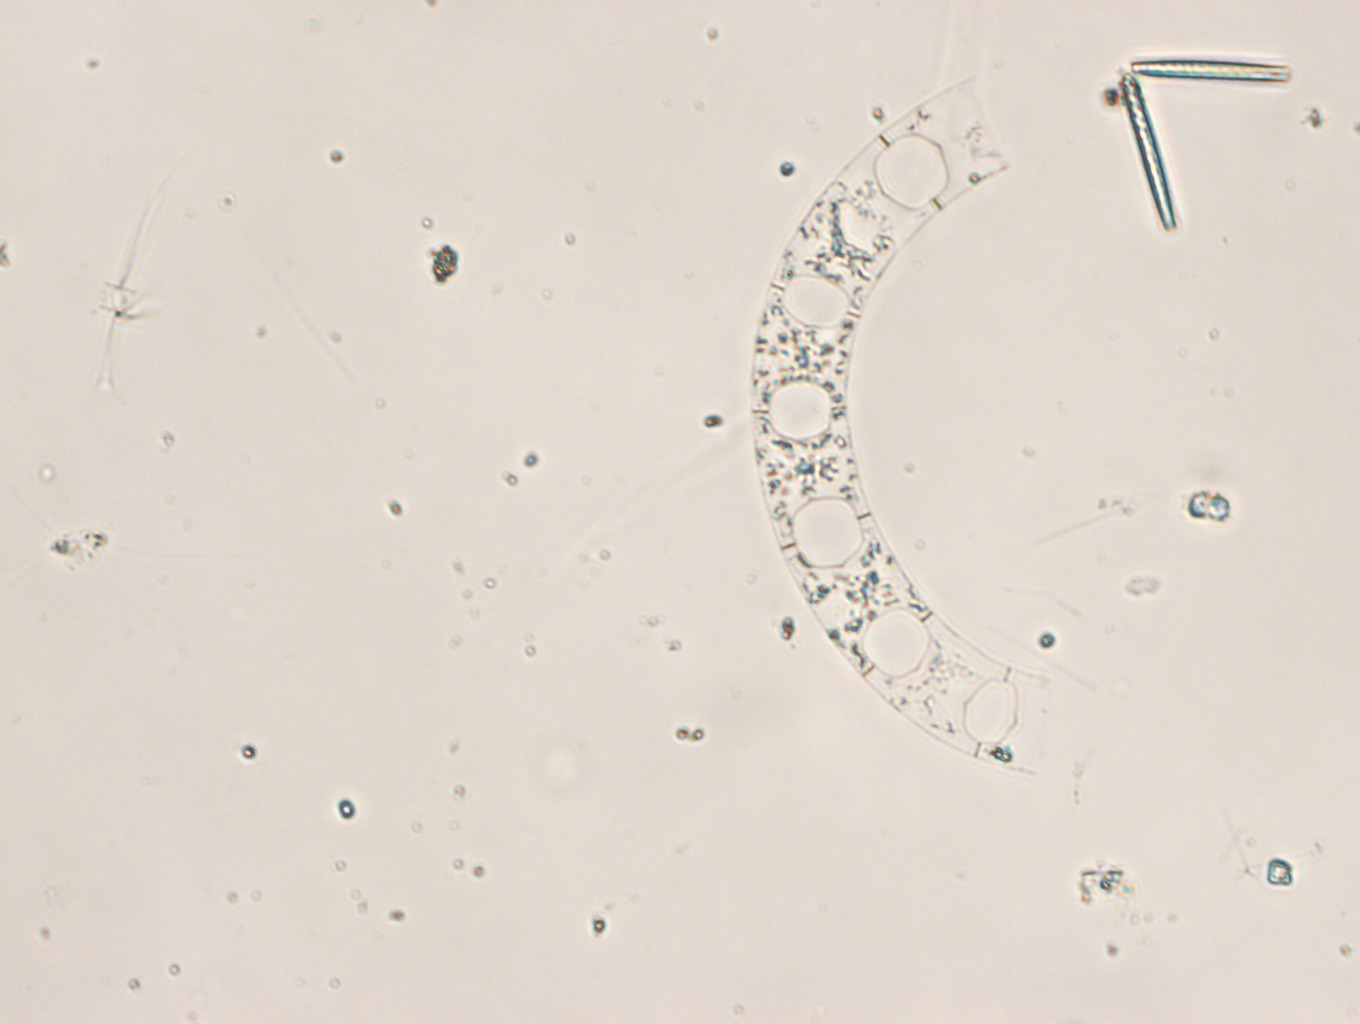eucampia: (747, 77, 1053, 776)
thalassionema nitzschioides: (1118, 56, 1289, 231)
